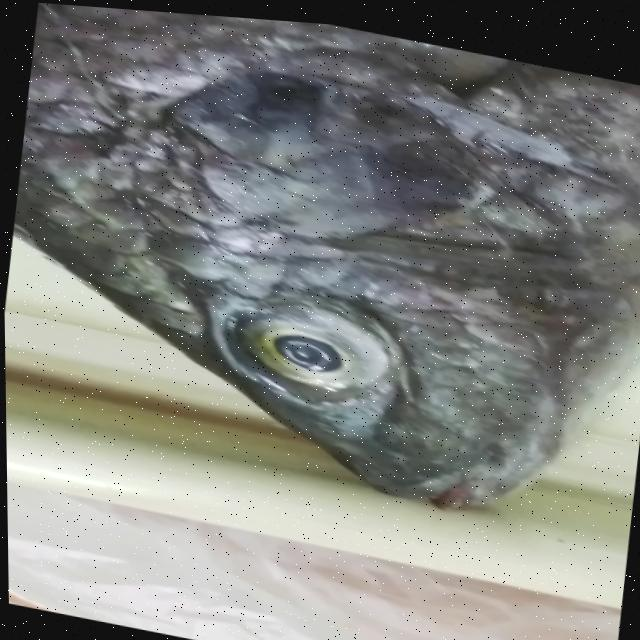Non-Fresh: (169, 250, 442, 452)
